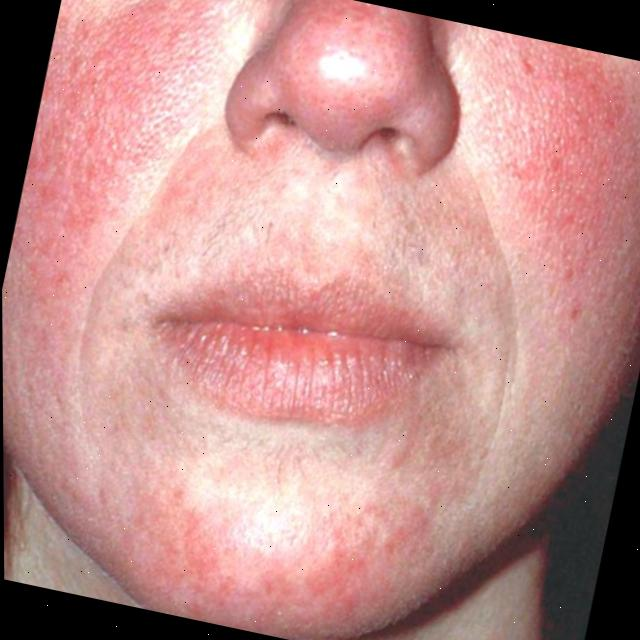Rosacea: (155, 430, 433, 610), (14, 0, 202, 250), (459, 30, 640, 247)
